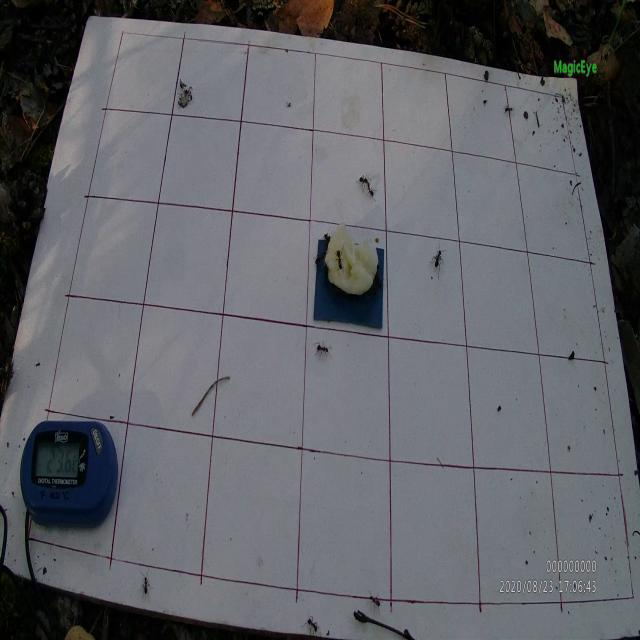Ant: (428, 241, 447, 278), (302, 613, 322, 637), (314, 337, 332, 363), (140, 568, 154, 600), (335, 243, 346, 277), (368, 589, 380, 616), (314, 247, 328, 267), (357, 174, 372, 192), (503, 104, 514, 113)
